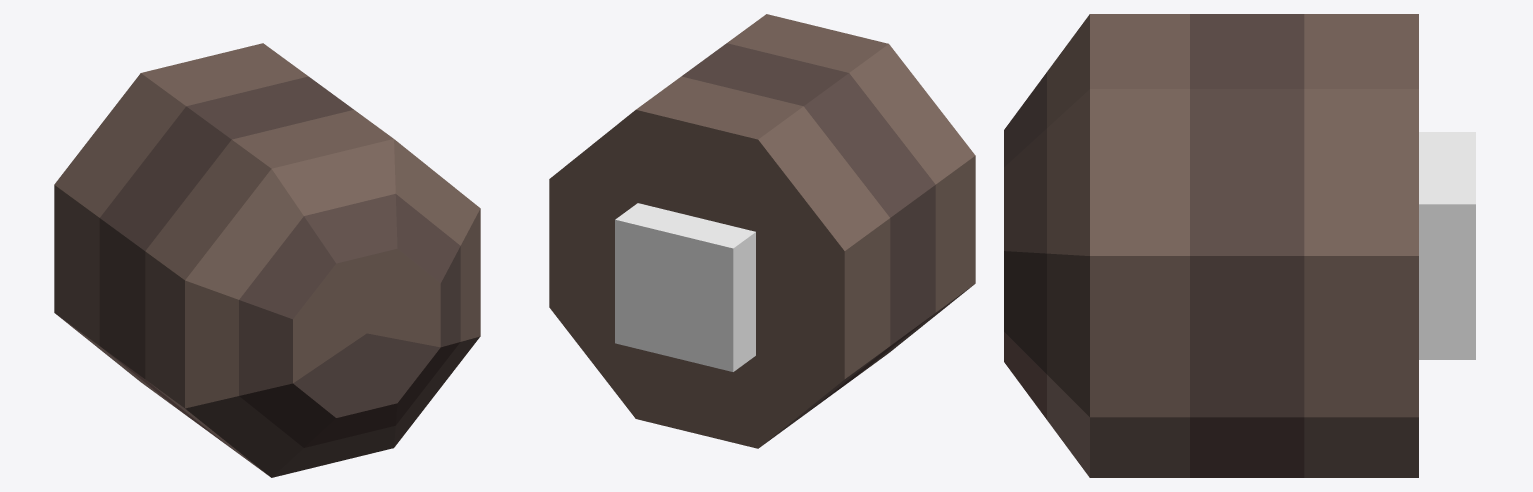
Rendered from spotlight1.fbx.
The picture shows the model from 3 angles, left to right: view 1: azimuth 30°, elevation 25°; view 2: azimuth 150°, elevation 25°; view 3: azimuth 270°, elevation 25°; orthographic projection. The views are drawn at different scales.
Visible parts, largest first — view 1: lantern; view 2: lantern, light; view 3: lantern, light.
Boxes of the visible parts, box(x1,y1,x2,y2) form: lantern: box(54, 43, 480, 477); lantern: box(549, 14, 975, 448); light: box(615, 203, 755, 371); lantern: box(1004, 14, 1418, 477); light: box(1419, 132, 1475, 359).
Size of the model in its own units: 15.62 by 15.62 by 18.75.
Materials: 2 (2 with a texture image).
